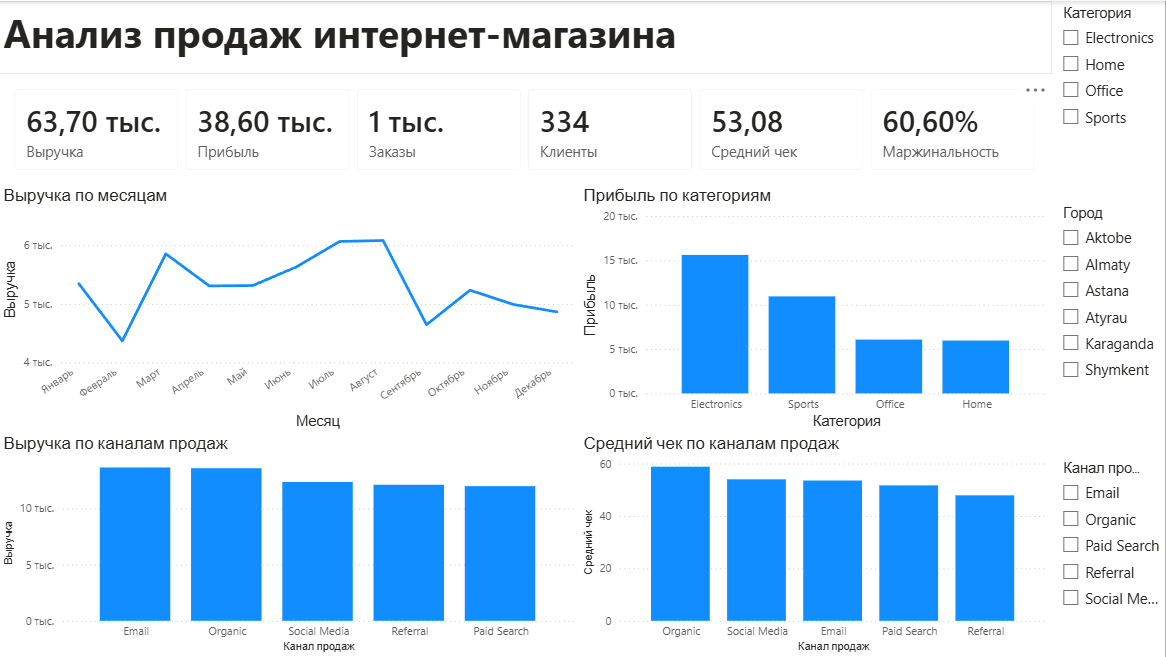

Layout of this report page (visuals, bound fields, positions):
{"tool":"powerbi","page":{"name":"Страница 1","canvas":[1280,720],"ordinal":0},"visuals":[{"type":"cardVisual","fields":{"Data":["orders_excel_ru.Total Revenue","orders_excel_ru.Total Profit","orders_excel_ru.Total Orders","orders_excel_ru.Total Customers","orders_excel_ru.Average Order Value","orders_excel_ru.Profit Margin %"]},"box":[0,79.6,1155.4,123.5],"z":0},{"type":"lineChart","title":"Выручка по месяцам","fields":{"Category":["orders_excel_ru.order_date.Изменение.Иерархия дат.Месяц"],"Y":["orders_excel_ru.Total Revenue"]},"box":[0,203.1,636.7,271.7],"z":1000},{"type":"clusteredColumnChart","title":"Прибыль по категориям","fields":{"Category":["orders_excel_ru.category"],"Y":["orders_excel_ru.Total Profit"]},"box":[636.7,203.1,518.7,271.7],"z":2000},{"type":"clusteredColumnChart","title":"Выручка по каналам продаж","fields":{"Category":["orders_excel_ru.sales_channel"],"Y":["orders_excel_ru.Total Revenue"]},"box":[0,474.8,636.7,245.6],"z":3000},{"type":"clusteredColumnChart","title":"Средний чек по каналам продаж","fields":{"Category":["orders_excel_ru.sales_channel"],"Y":["orders_excel_ru.Average Order Value"]},"box":[636.7,474.8,518.7,245.6],"z":4000},{"type":"slicer","title":"Категория","fields":{"Values":["orders_excel_ru.category"]},"box":[1155.4,0,124.9,218.2],"z":5000},{"type":"slicer","title":"Город","fields":{"Values":["orders_excel_ru.city"]},"box":[1155.4,219.6,124.9,279.9],"z":6000},{"type":"slicer","title":"Канал продаж","fields":{"Values":["orders_excel_ru.sales_channel"]},"box":[1155.4,499.5,124.9,220.9],"z":7000},{"type":"textbox","box":[0,0,1155.4,79.6],"z":7001}]}

Visuals, with their boxes in screenshot pixels (x1, y1, x2, y2), scaled from the page's 1280x720 canvas onto the 1166x657 screenshot:
cardVisual - orders_excel_ru.Total Revenue x orders_excel_ru.Total Profit: 0,73,1052,185
"Выручка по месяцам" lineChart: 0,185,580,433
"Прибыль по категориям" clusteredColumnChart: 580,185,1052,433
"Выручка по каналам продаж" clusteredColumnChart: 0,433,580,656
"Средний чек по каналам продаж" clusteredColumnChart: 580,433,1052,656
"Категория" slicer: 1052,0,1165,199
"Город" slicer: 1052,200,1165,456
"Канал продаж" slicer: 1052,456,1165,656
textbox: 0,0,1052,73
